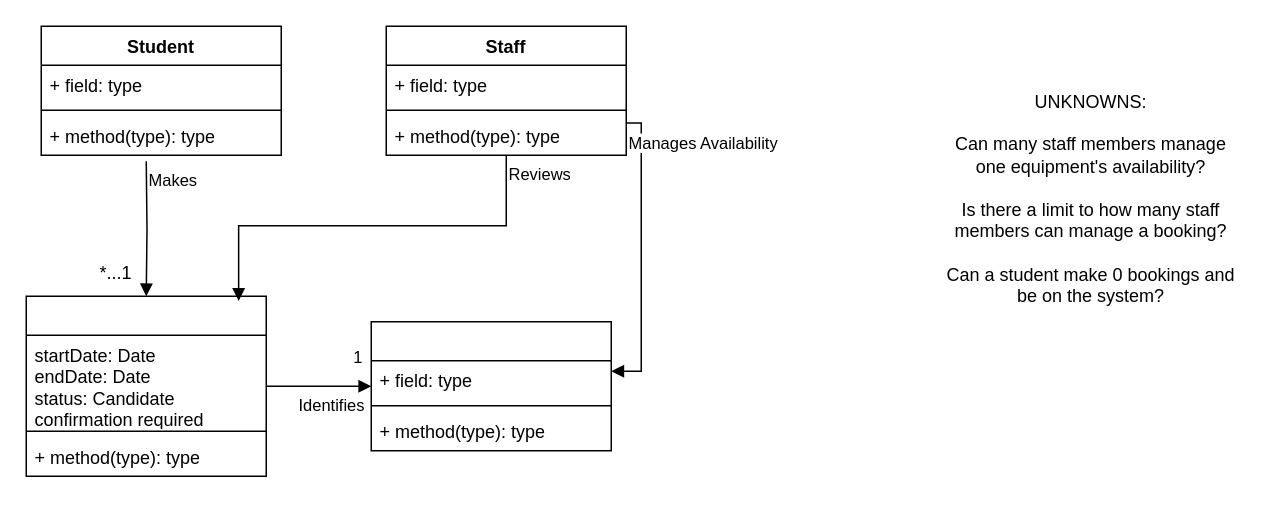
This 1268x507 diagram has some shape labels left out. Each missing label, with the box of its shape:
Booking: (25, 295, 266, 476)
Equipment: (370, 320, 611, 451)
